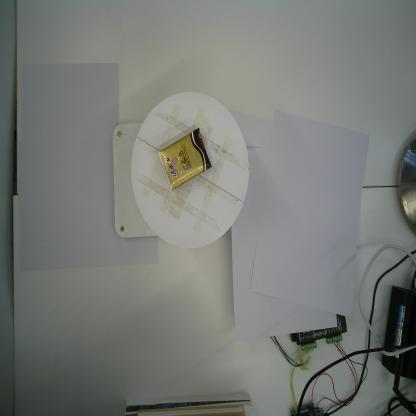Tissue: (158, 126, 212, 191)
